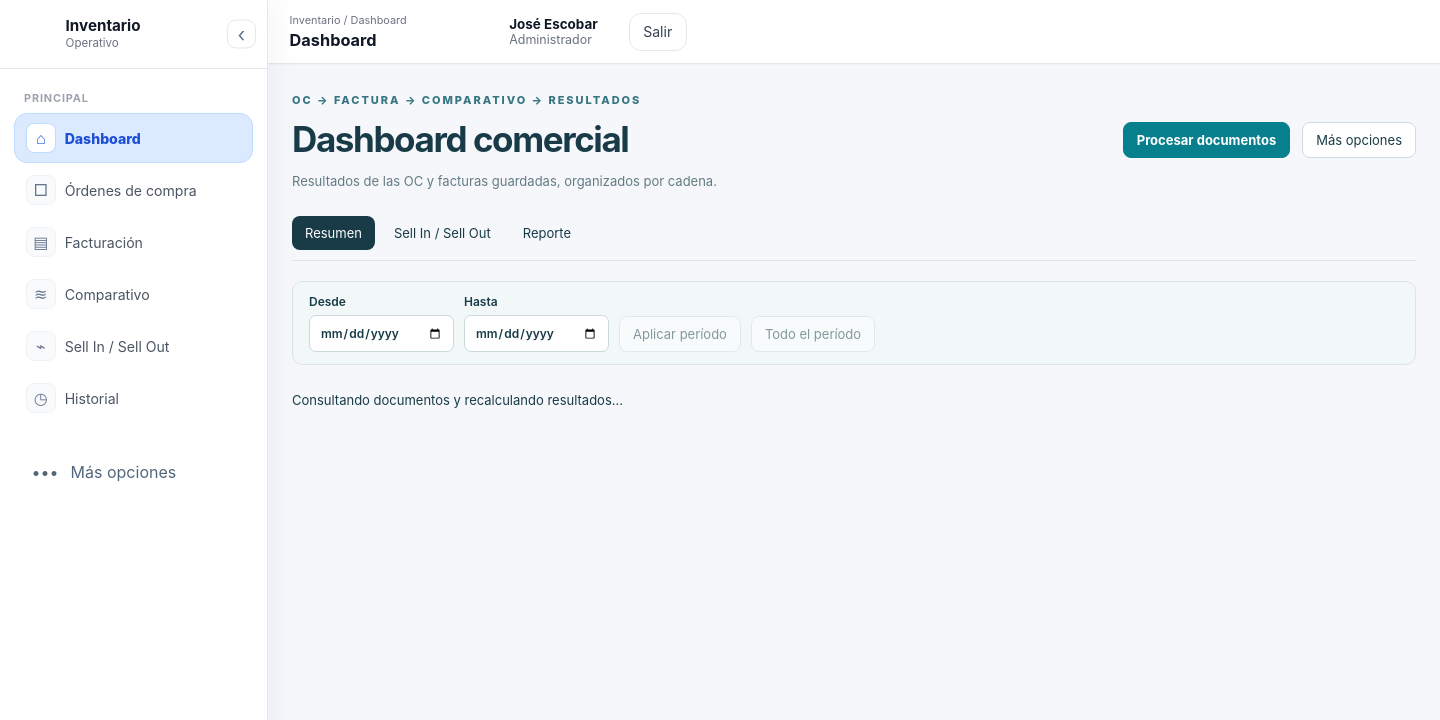
Scenario: Dashboard › mantiene las herramientas de corrección exclusivamente en Ajustes
Step 1. Click the button with aria-label "Más funciones" → (134, 472), box [14,448,253,496]
(page scrolled)
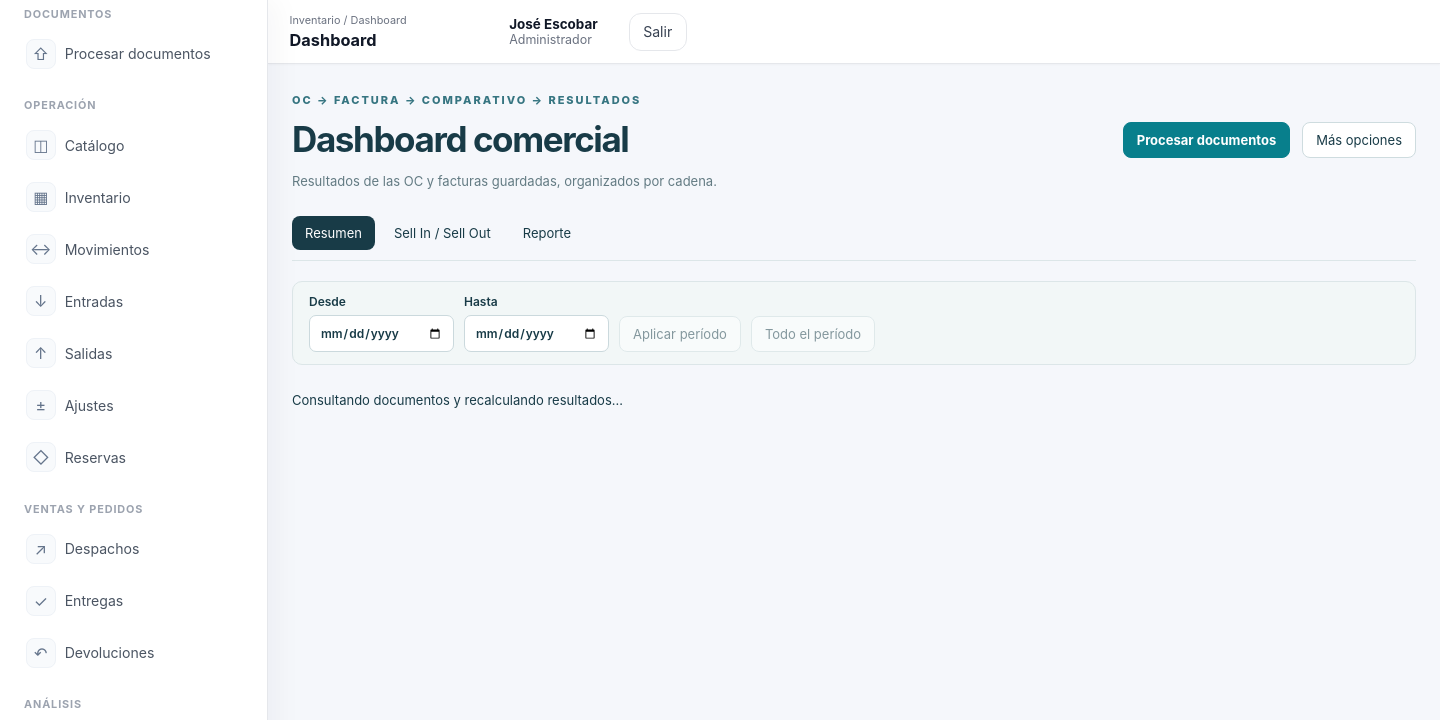
Step 2. Click the button "± Ajustes" → (134, 405), box [14,380,253,430]
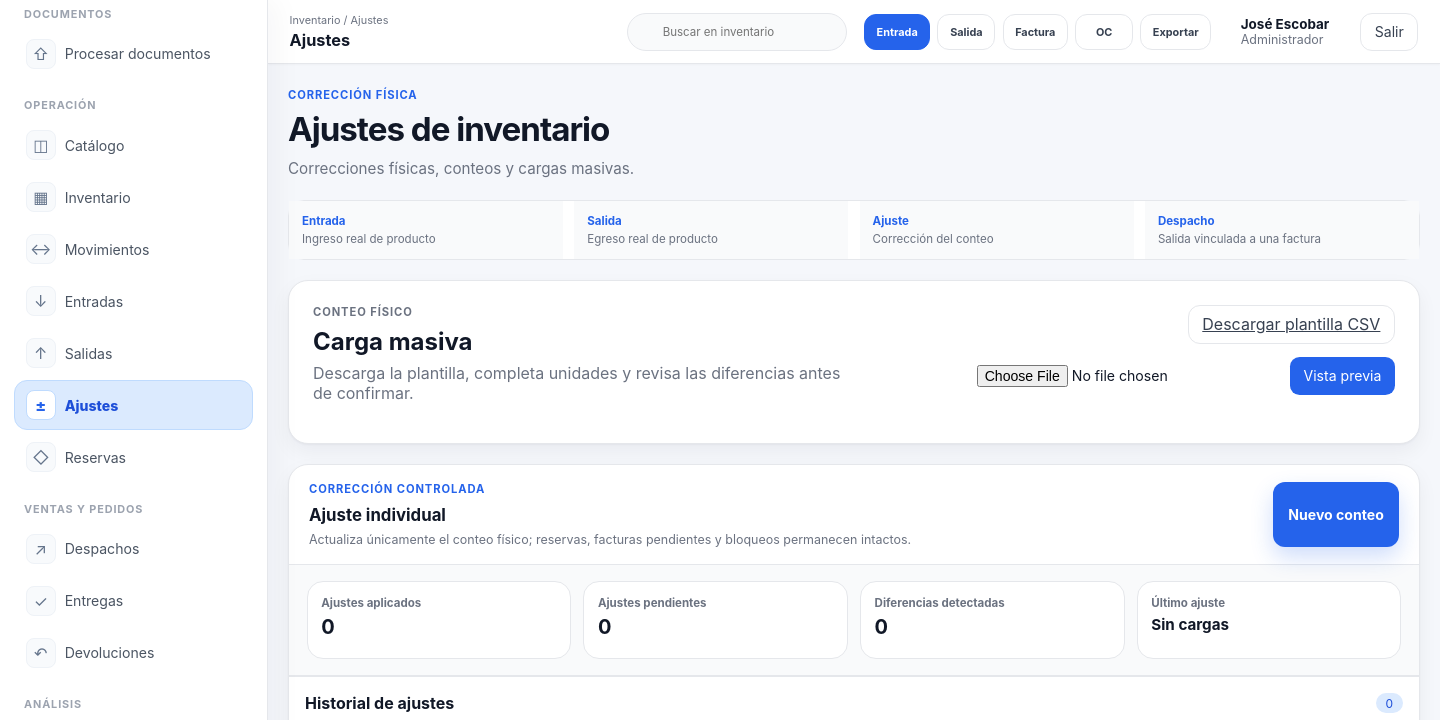
Expected: the heading "Carga masiva" is shown, [313,327,472,356]
Expected: the heading "Ajuste individual" is shown, [309,505,446,525]
Expected: the text "Historial de ajustes" is shown, [305,693,454,713]
